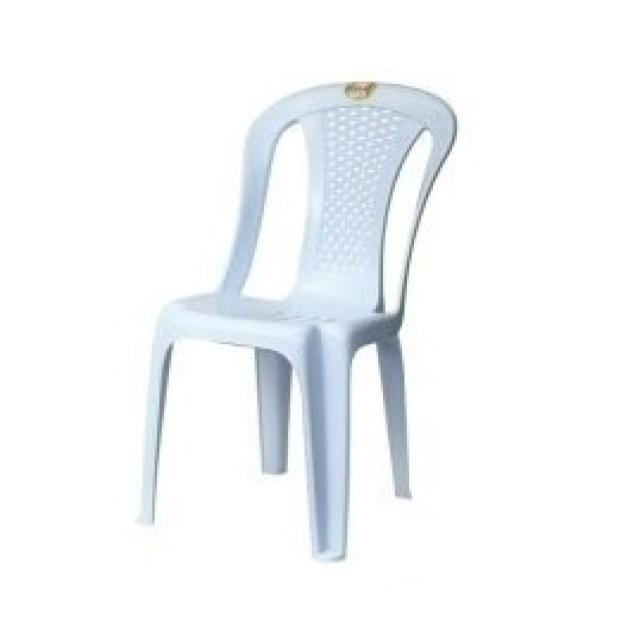chair: (140, 80, 460, 568)
